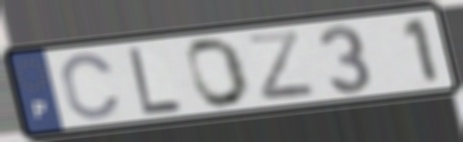1: (401, 16, 444, 84)
3: (315, 20, 374, 97)
C: (58, 50, 124, 122)
L: (125, 44, 186, 117)
O: (184, 35, 253, 110)
Z: (244, 28, 320, 103)
